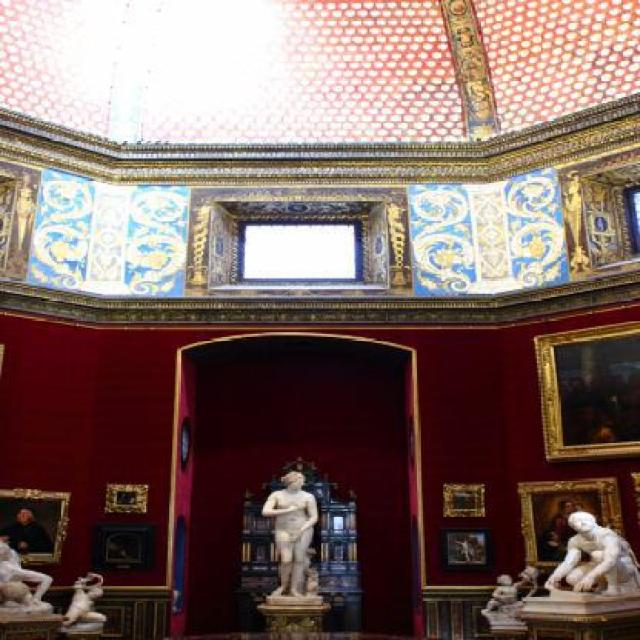Person: (254, 468, 338, 620), (544, 510, 639, 596), (60, 568, 106, 626), (1, 507, 54, 551), (485, 576, 530, 612)
